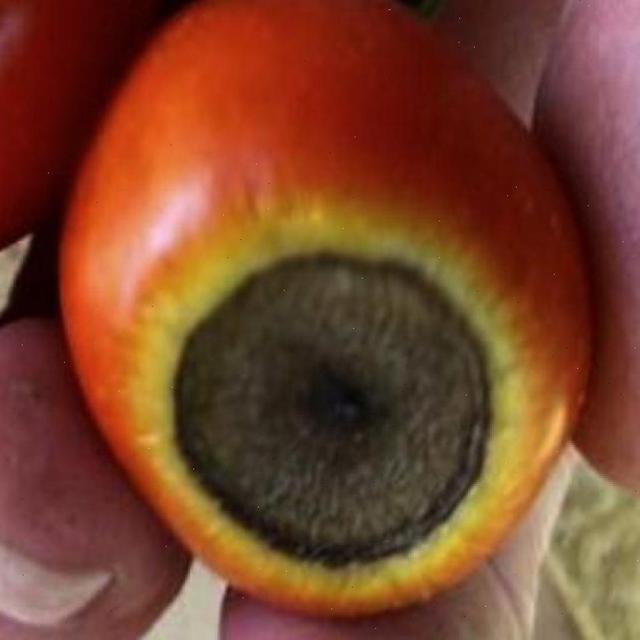Blossom End Rot Fruit: (111, 150, 340, 381)
